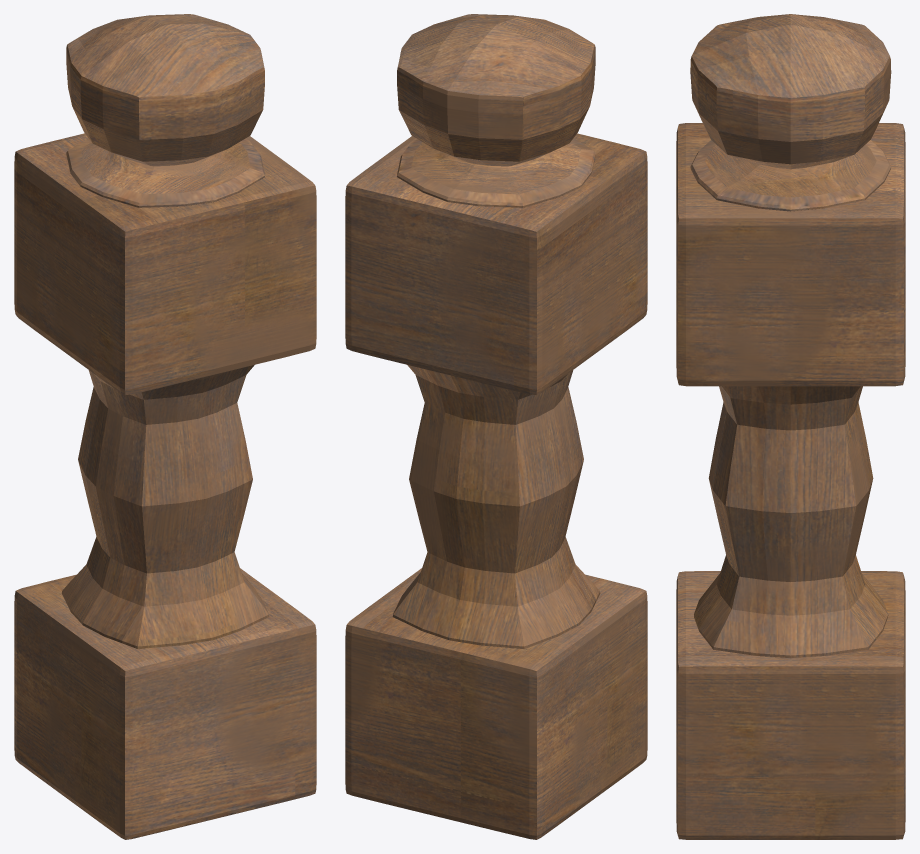
The model's file is HandrailEnd01.fbx.
3 views of the same model, side by side, from view 1: azimuth 30°, elevation 25°; view 2: azimuth 150°, elevation 25°; view 3: azimuth 270°, elevation 25° (orthographic). The views are drawn at different scales.
Parts seen in each view (by area): view 1: HandRailEnd01; view 2: HandRailEnd01; view 3: HandRailEnd01.
Part boxes in pixels (x1,y1,x2,y2): HandRailEnd01: [14, 14, 316, 839]; HandRailEnd01: [345, 14, 647, 839]; HandRailEnd01: [676, 14, 905, 839].
Bounding box in the file's own units: 40 × 148 × 40.
